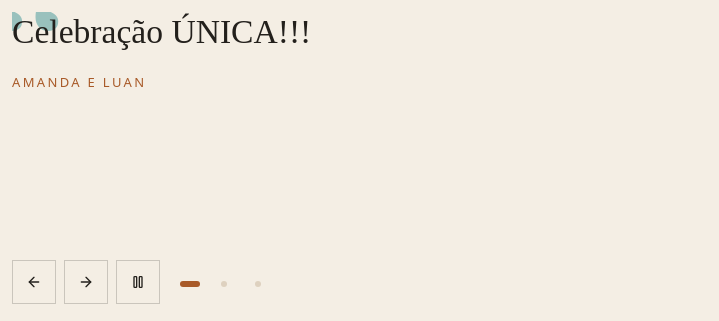
Test: TestimonialCarousel › navega direto por um ponto, identificando o casal
Step 1. Click the 6th button named "Ir para o depoimento 3: Camila e Nero" → (258, 284), box [244,270,272,298]
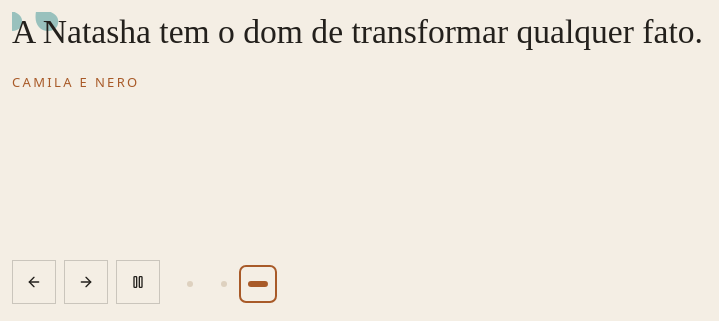
Result: the text "A Natasha tem o dom de transformar qualquer fato." is shown at [12,13,703,50]
